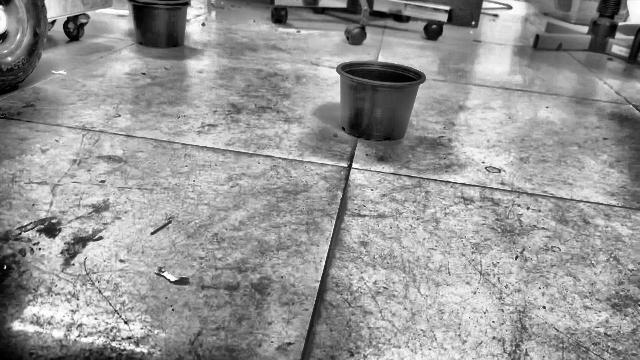pot: (337, 61, 425, 141), (127, 0, 190, 47)
